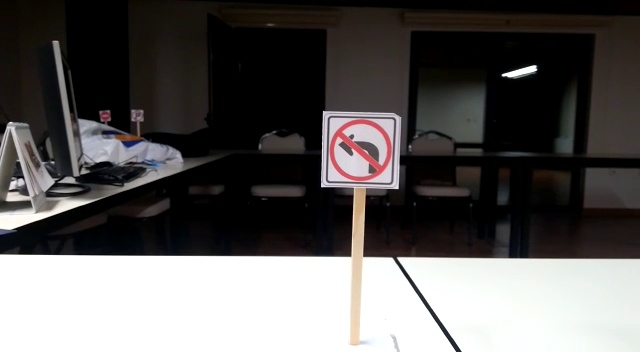sola_donulmez: (324, 117, 401, 180)
